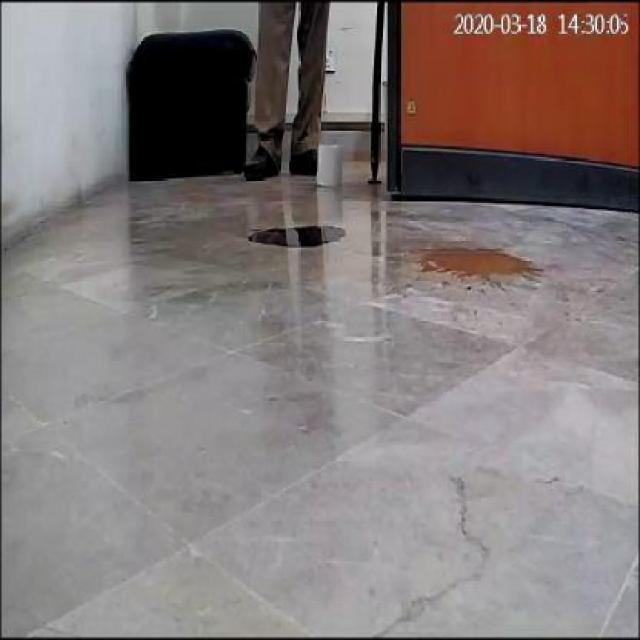spill: (416, 242, 544, 288), (233, 218, 347, 248)
